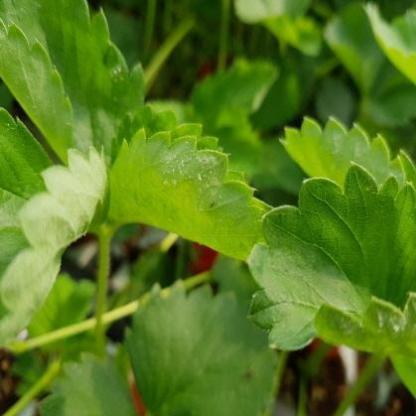Strawberry_Powdery_Mildew_Leaf: (245, 160, 415, 358), (105, 102, 278, 262), (0, 0, 146, 168)
